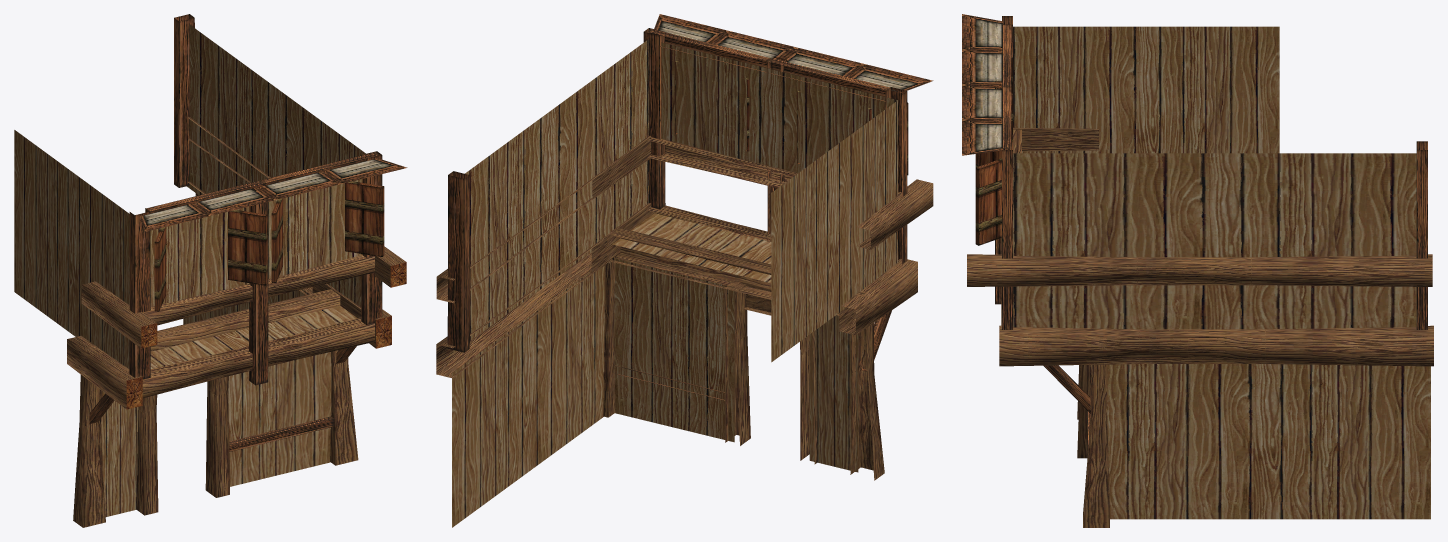
Rendered from LAKETOWN_EXTERIOR_PS_LT_SMALLCORNER546__GX.fbx.
3 renders of one model, left to right at view 1: azimuth 30°, elevation 25°; view 2: azimuth 150°, elevation 25°; view 3: azimuth 270°, elevation 25°, orthographic. The views are drawn at different scales.
Visible parts, largest first — view 1: LAKETOWN_EXTERIOR_PS_LT_SMALLCORNER546__GX; view 2: LAKETOWN_EXTERIOR_PS_LT_SMALLCORNER546__GX; view 3: LAKETOWN_EXTERIOR_PS_LT_SMALLCORNER546__GX.
Part boxes in pixels (x1,y1,x2,y2): LAKETOWN_EXTERIOR_PS_LT_SMALLCORNER546__GX: (14,14,407,527); LAKETOWN_EXTERIOR_PS_LT_SMALLCORNER546__GX: (436,14,933,527); LAKETOWN_EXTERIOR_PS_LT_SMALLCORNER546__GX: (962,14,1433,527).
Size of the model in its own units: 51719 by 60325 by 69321.
Materials: 8 (8 with a texture image).
